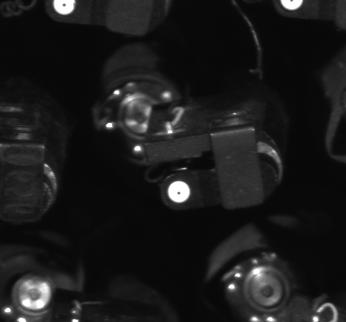fiber: (156, 173, 198, 211), (274, 1, 321, 22), (51, 1, 81, 18)
